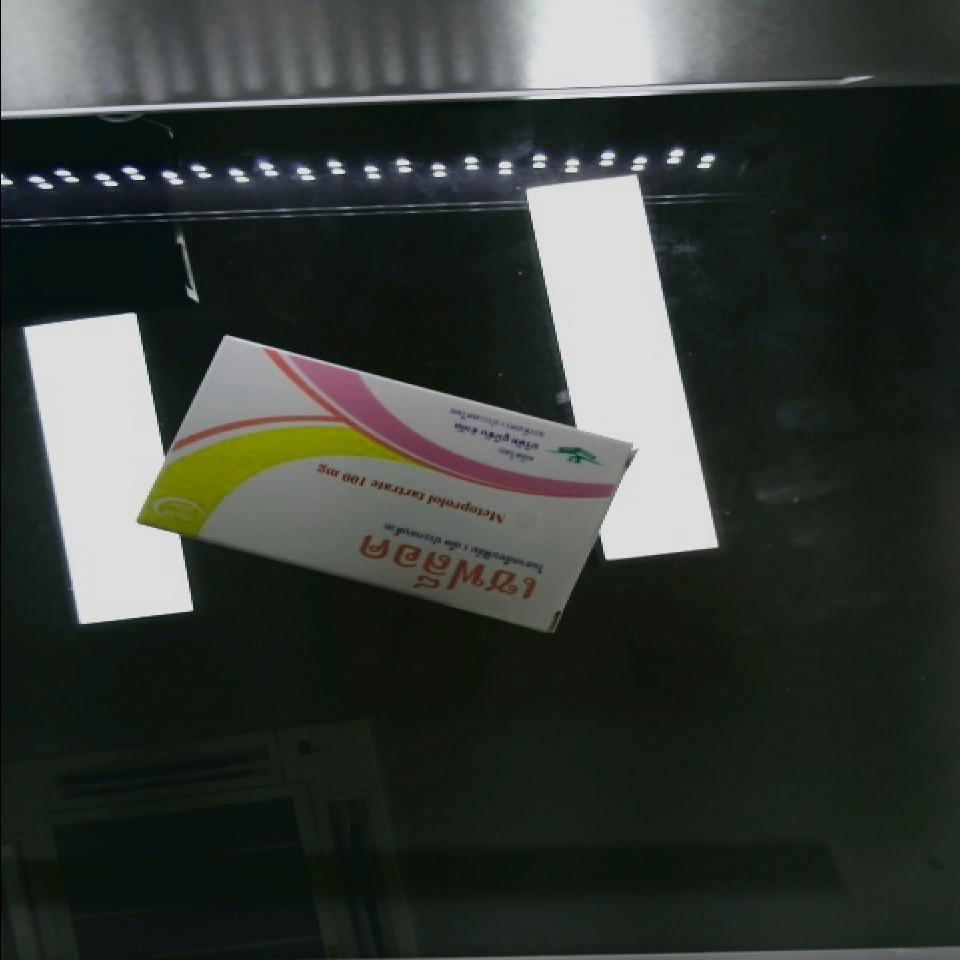medicine_box: (132, 323, 630, 637)
medicine_label_obb: (332, 517, 572, 633)
